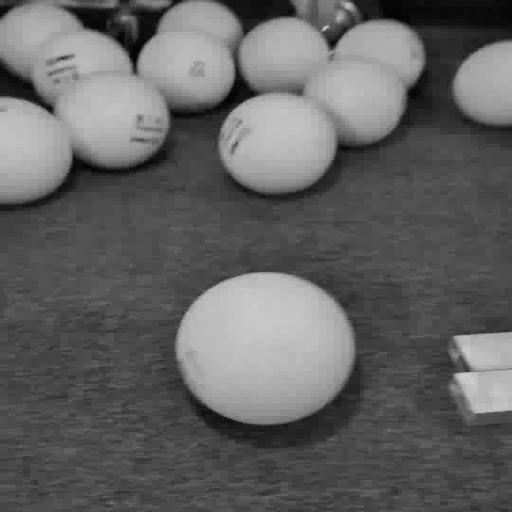fuel: (175, 272, 355, 425), (219, 93, 338, 195), (54, 72, 170, 169), (303, 56, 407, 146), (137, 31, 235, 112), (0, 97, 73, 205), (31, 28, 133, 105), (238, 17, 329, 93), (0, 2, 82, 81), (334, 20, 425, 88), (450, 40, 511, 127), (157, 0, 243, 52)
